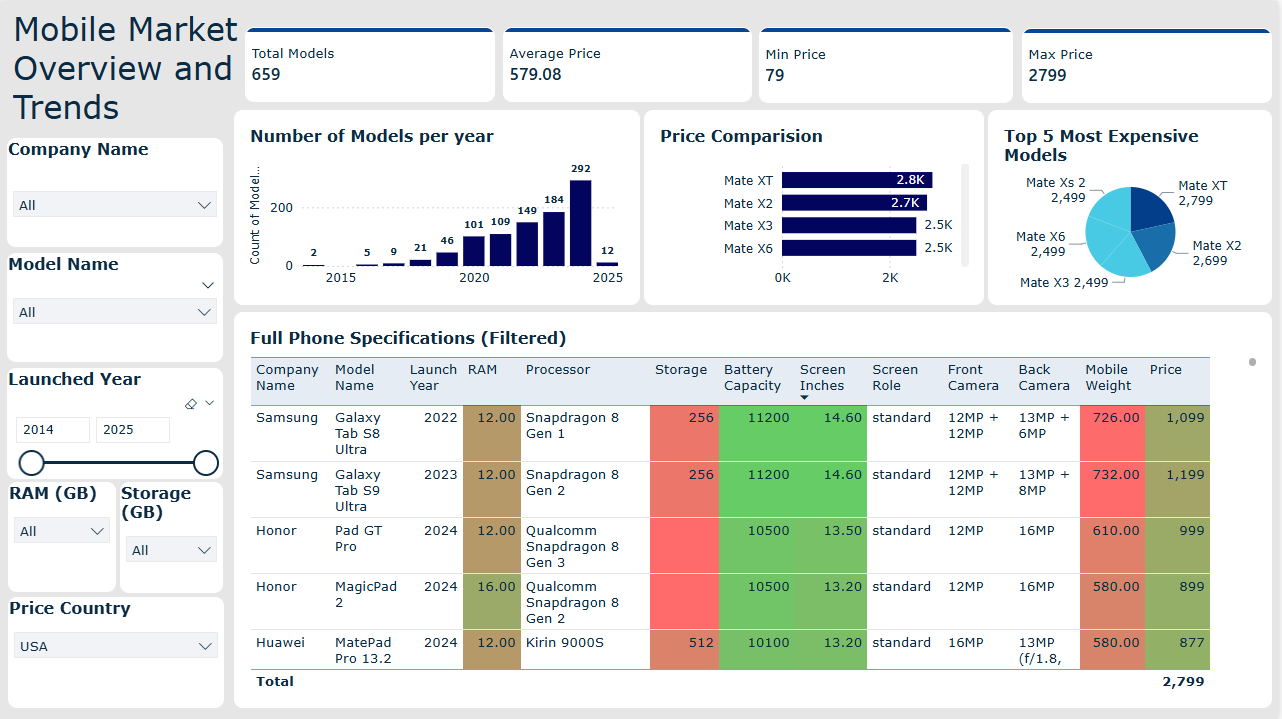

The dashboard page shown, as its layout file describes it:
{"tool":"powerbi","page":{"name":"Overview","canvas":[1280,720],"ordinal":0},"visuals":[{"type":"slicer","title":"Company Name","fields":{"Values":["mob.Company Name"]},"box":[9.3,137.3,216.1,108.5],"z":0},{"type":"slicer","title":"Launched Year","fields":{"Values":["mob.Launched Year"]},"box":[9.3,367.3,216.1,110.4],"z":1000},{"type":"slicer","title":"RAM                                   (GB)","fields":{"Values":["mob.RAM"]},"box":[10.2,481.4,107.6,109.4],"z":2000},{"type":"slicer","title":"Storage (GB)","fields":{"Values":["mob.Storage"]},"box":[122.4,481.4,103,110.4],"z":3000},{"type":"cardVisual","fields":{"Data":["Count(mob.Model Name)"]},"box":[247.2,26,250,75.1],"z":4000},{"type":"slicer","title":"Price Country","fields":{"Values":["PriceCountry.Country"]},"box":[10.2,596.4,216.1,110.4],"z":5000},{"type":"cardVisual","fields":{"Data":["mob.AvgSelectedPrice"]},"box":[504.6,26,249.5,75.1],"z":6000},{"type":"cardVisual","fields":{"Data":["mob.Min Price"]},"box":[760.6,26,254.1,76.1],"z":7000},{"type":"cardVisual","fields":{"Data":["mob.Max Price"]},"box":[1024,26.9,249.5,75.1],"z":8000},{"type":"clusteredColumnChart","title":"Number of Models per year","fields":{"Category":["mob.Launched Year"],"Y":["CountNonNull(mob.Model Name)"]},"box":[235.6,109.4,406.3,194.8],"z":9000},{"type":"pieChart","title":"Top 5 Most Expensive Models","fields":{"Category":["mob.Model Name"],"Y":["mob.SelectedPrice"]},"box":[989.7,109.4,283.8,194.8],"z":10000},{"type":"textbox","box":[14.8,7.9,241.4,119.2],"z":11000},{"type":"tableEx","title":"Full Phone Specifications (Filtered)","fields":{"Values":["mob.Company Name","mob.Model Name","mob.Launched Year","mob.RAM","mob.Processor","mob.Storage","mob.Battery Capacity","mob.Screen Inches","mob.Screen Role","mob.Front Camera","mob.Back Camera","mob.Mobile Weight"]},"box":[235.6,310.7,1037.9,396.1],"z":12000},{"type":"barChart","title":"Price Comparision","fields":{"Category":["mob.Model Name"],"Y":["mob.SelectedPrice"]},"box":[646.5,109.4,339.5,194.8],"z":13000},{"type":"slicer","title":"Model Name","fields":{"Values":["mob.Model Name"]},"box":[9.3,252.3,216.1,108.5],"z":14000}]}

Visuals, with their boxes in screenshot pixels (x1, y1, x2, y2), scaled from the page's 1280x720 canvas onto the 1282x719 screenshot:
"Company Name" slicer: x1=9, y1=137, x2=226, y2=245
"Launched Year" slicer: x1=9, y1=367, x2=226, y2=477
"RAM                                   (GB)" slicer: x1=10, y1=481, x2=118, y2=590
"Storage (GB)" slicer: x1=123, y1=481, x2=226, y2=591
cardVisual - Count(mob.Model Name): x1=248, y1=26, x2=498, y2=101
"Price Country" slicer: x1=10, y1=596, x2=227, y2=706
cardVisual - mob.AvgSelectedPrice: x1=505, y1=26, x2=755, y2=101
cardVisual - mob.Min Price: x1=762, y1=26, x2=1016, y2=102
cardVisual - mob.Max Price: x1=1026, y1=27, x2=1275, y2=102
"Number of Models per year" clusteredColumnChart: x1=236, y1=109, x2=643, y2=304
"Top 5 Most Expensive Models" pieChart: x1=991, y1=109, x2=1275, y2=304
textbox: x1=15, y1=8, x2=257, y2=127
"Full Phone Specifications (Filtered)" tableEx: x1=236, y1=310, x2=1275, y2=706
"Price Comparision" barChart: x1=648, y1=109, x2=988, y2=304
"Model Name" slicer: x1=9, y1=252, x2=226, y2=360
